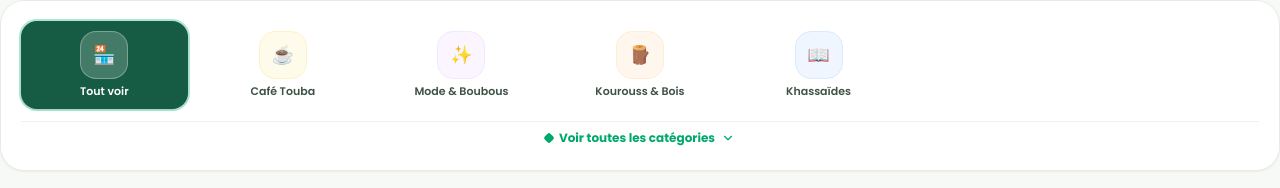
Scenario: 4. CategoryIconGrid Component Tests › renders quick categories and allows expanding
The width and height of the screenshot is (1280, 188).
Expected: the text "Tout voir" is shown, [80, 85, 129, 99]
Expected: the text "Café Touba" is shown, [250, 85, 315, 99]
// Click "Voir toutes les catégories"
Click the button "Voir toutes les catégories" at (640, 138), box [545, 126, 735, 150]
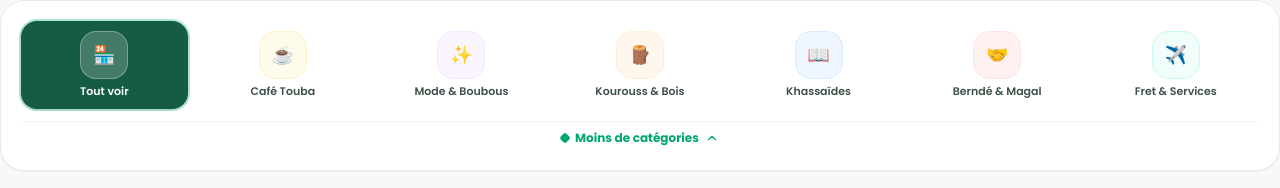
Result: the text "Moins de catégories" is shown at [575, 130, 699, 146]
